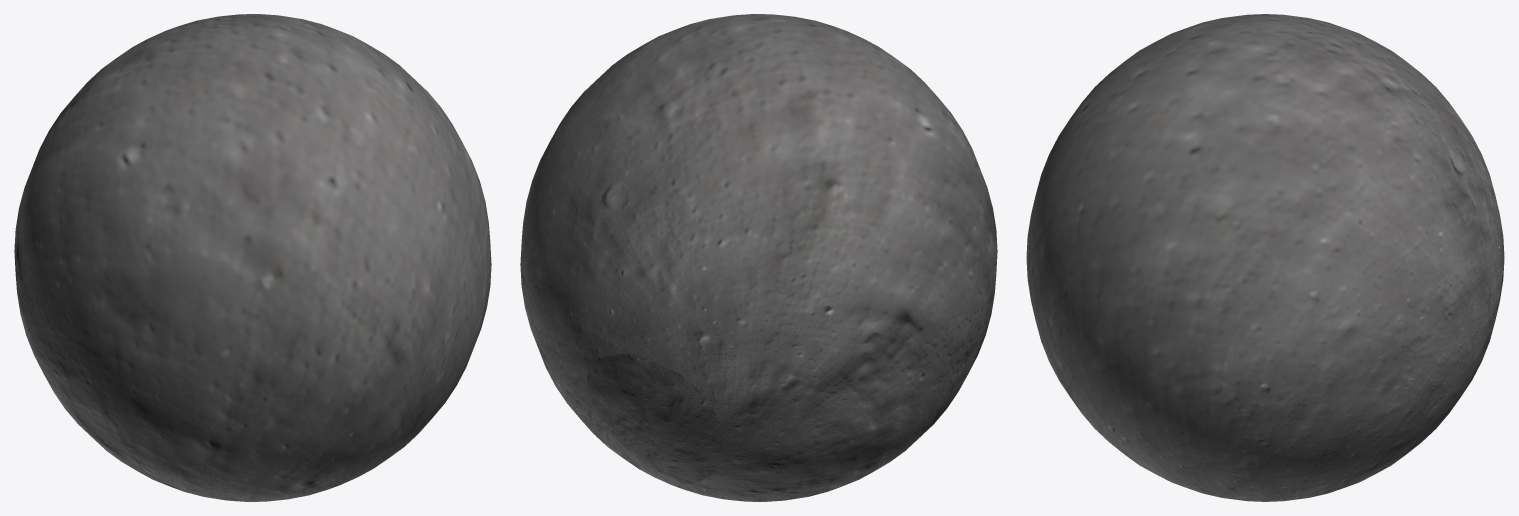
File: Moon.fbx
3 views of the same model, side by side, from view 1: azimuth 30°, elevation 25°; view 2: azimuth 150°, elevation 25°; view 3: azimuth 270°, elevation 25° (orthographic).
Parts seen in each view (by area): view 1: Moon; view 2: Moon; view 3: Moon.
Part boxes in pixels (x1=…): Moon: x1=14, y1=14, x2=491, y2=501; Moon: x1=520, y1=14, x2=997, y2=501; Moon: x1=1026, y1=14, x2=1504, y2=501.
Size of the model in its own units: 9.38 by 9.65 by 9.38.
1 material, 1 textured.
